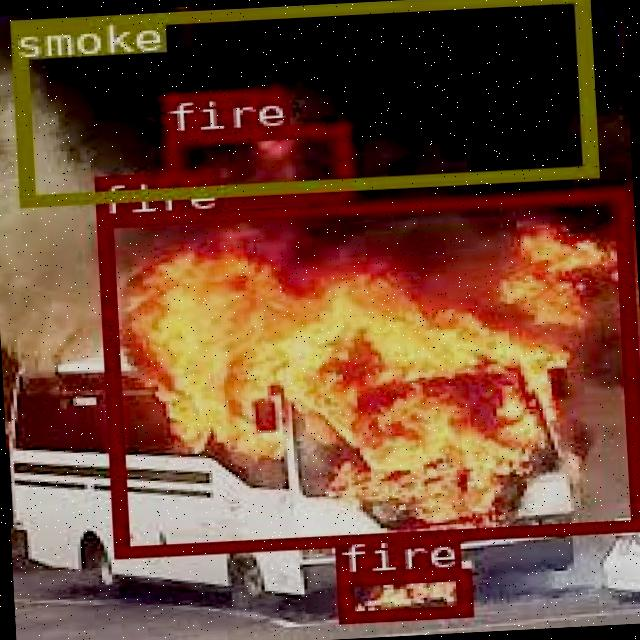fire: (93, 188, 640, 555), (164, 124, 348, 205), (334, 566, 470, 621)
smoke: (9, 0, 595, 205)
